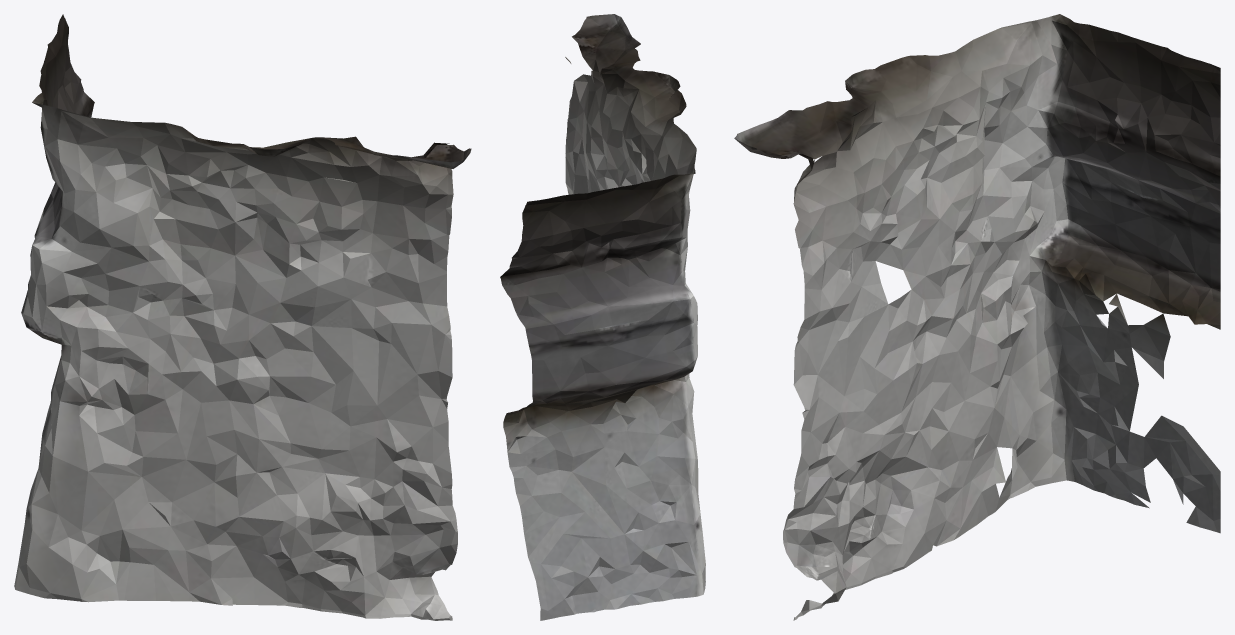
3 views of the same model, side by side, from view 1: azimuth 30°, elevation 25°; view 2: azimuth 150°, elevation 25°; view 3: azimuth 270°, elevation 25° (orthographic). The views are drawn at different scales.
Bounding box in the file's own units: 0.534 × 0.8373 × 0.781.
3 materials, 3 textured.
